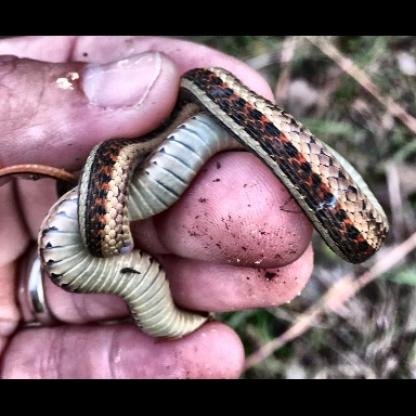Snake: (15, 66, 390, 340)
